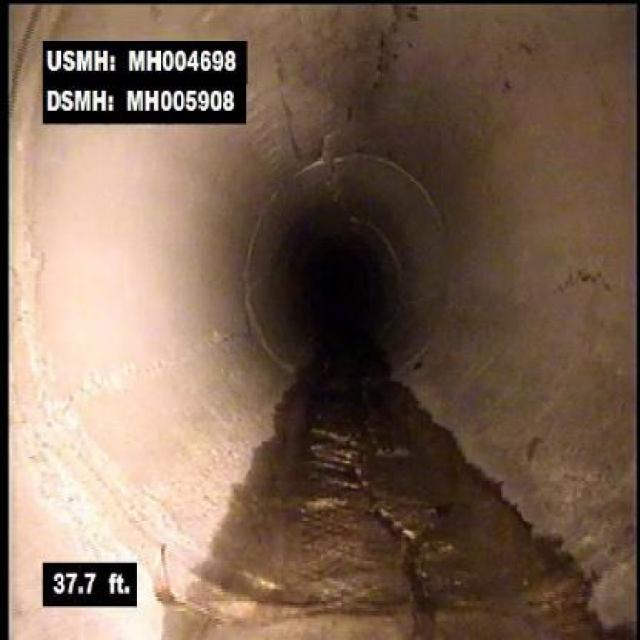Crack: (63, 332, 235, 414), (360, 486, 429, 639), (371, 6, 422, 99), (552, 265, 620, 297)
